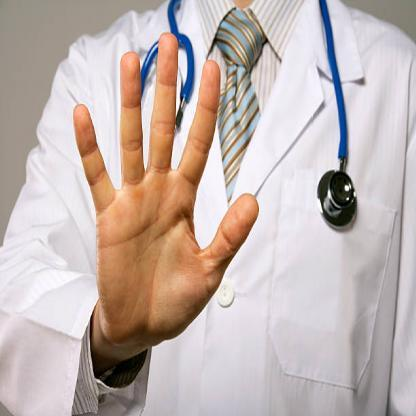stop: (70, 23, 260, 352)
